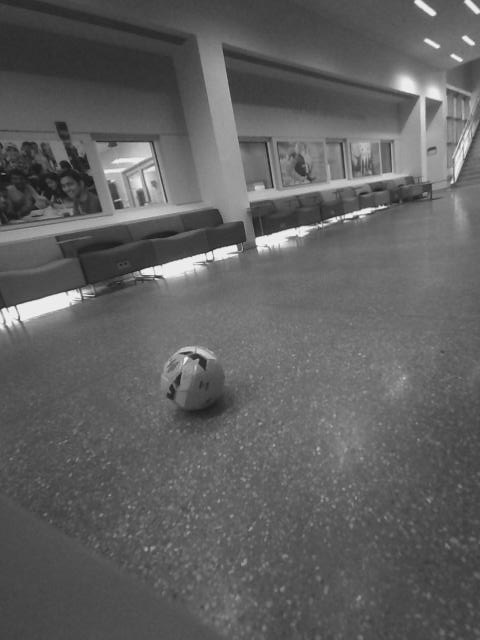ball: (156, 338, 233, 417)
